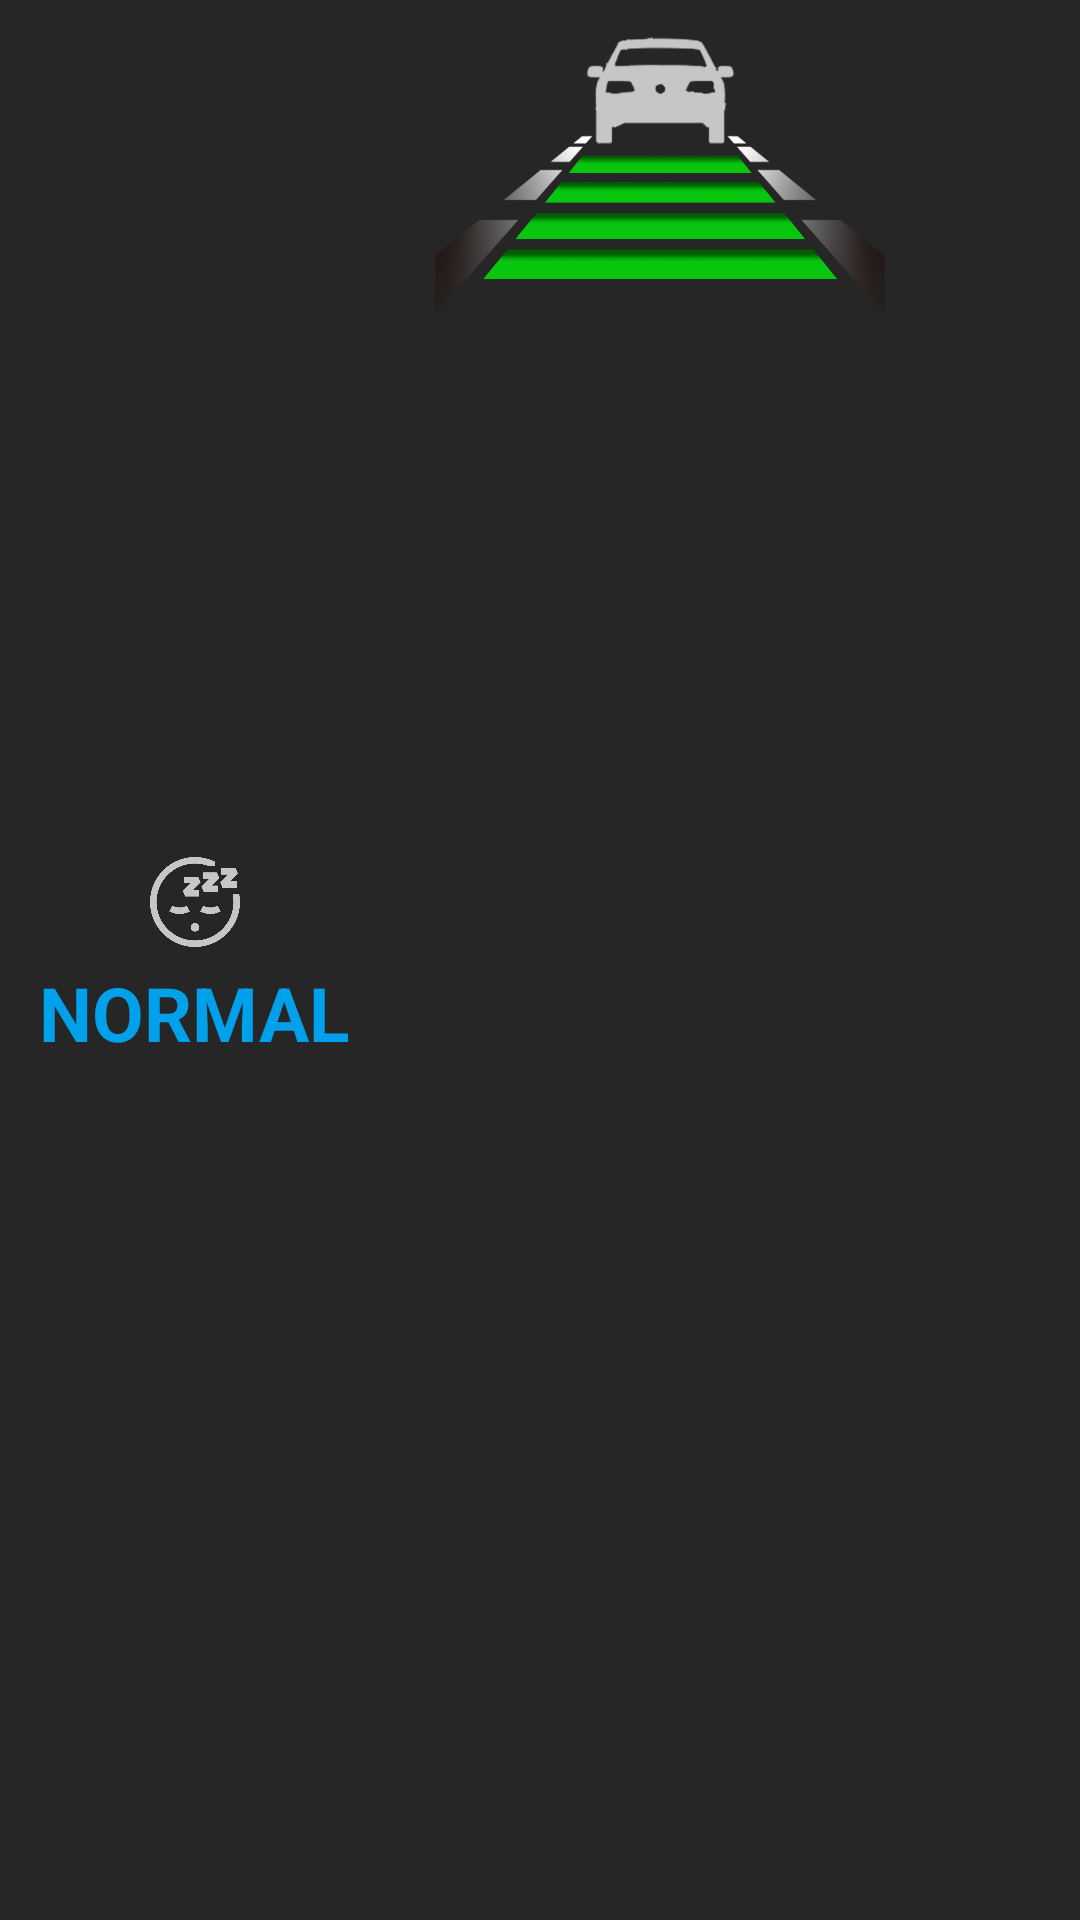

Where to tap for icons on this 1080px×1920px app screen, as [x,y]:
car: [660,90]
sleep: [195,902]
